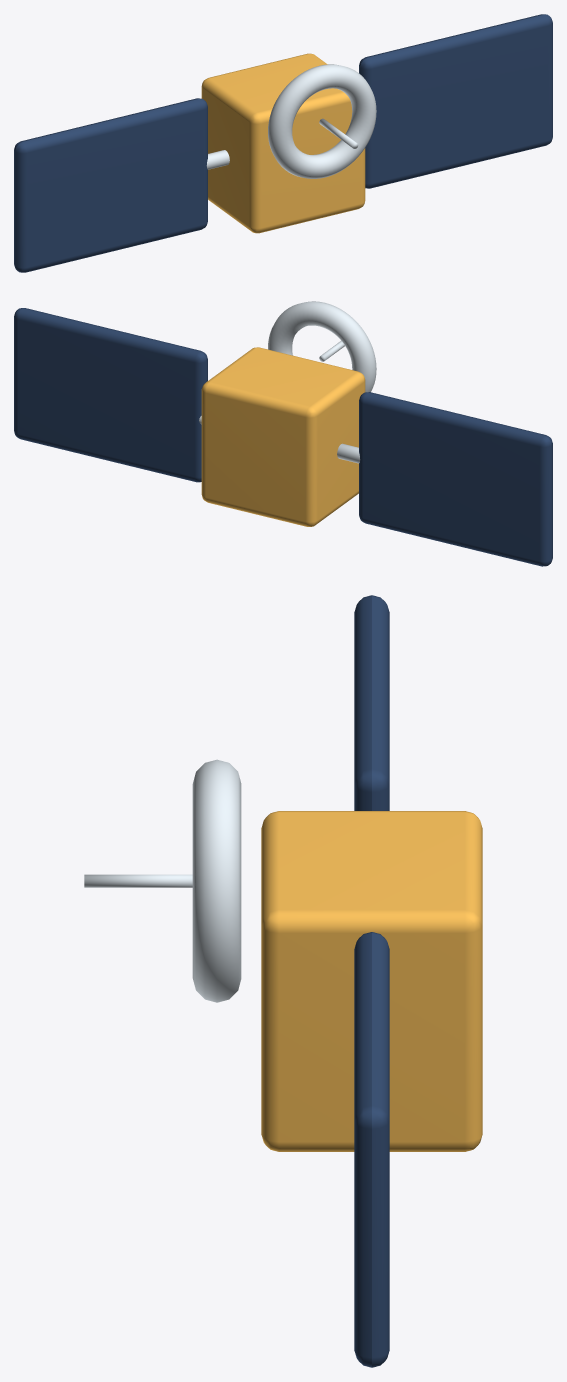
File: communications-satellite-quality.glb
The picture shows the model from 3 angles, top to bottom: view 1: azimuth 30°, elevation 25°; view 2: azimuth 150°, elevation 25°; view 3: azimuth 270°, elevation 25°; orthographic projection. The views are drawn at different scales.
Visible parts, largest first — view 1: Payload; view 2: Payload; view 3: Payload.
Boxes of the visible parts, <box> form: Payload: <box>14,14,552,272</box>; Payload: <box>14,301,552,566</box>; Payload: <box>84,595,482,1367</box>.
Size of the model in its own units: 2.8 by 0.85 by 0.9.
